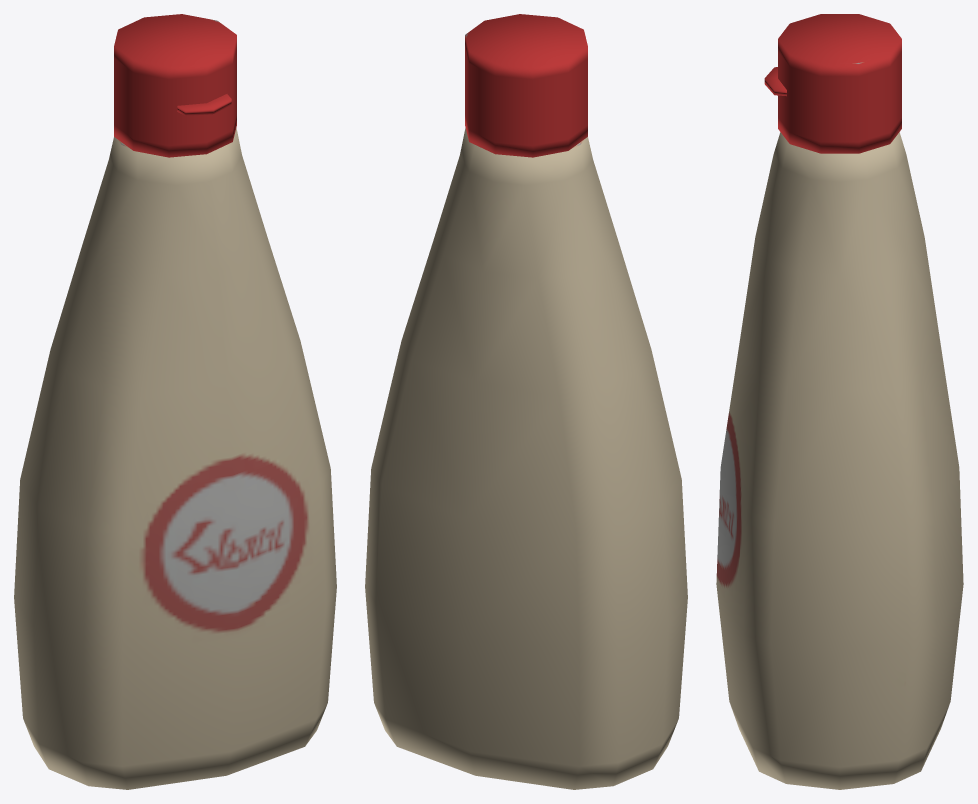
Rendered from pi_mayonnaise01.gltf.
The picture shows the model from 3 angles, left to right: view 1: azimuth 30°, elevation 25°; view 2: azimuth 150°, elevation 25°; view 3: azimuth 270°, elevation 25°; orthographic projection.
Visible parts, largest first — view 1: um_pi_mayonnaise01_model_pi_mayonnaise01_modelShape:pi_mayon; view 2: um_pi_mayonnaise01_model_pi_mayonnaise01_modelShape:pi_mayon; view 3: um_pi_mayonnaise01_model_pi_mayonnaise01_modelShape:pi_mayon.
Part boxes in pixels (x1=…): um_pi_mayonnaise01_model_pi_mayonnaise01_modelShape:pi_mayon: x1=14, y1=14, x2=336, y2=789; um_pi_mayonnaise01_model_pi_mayonnaise01_modelShape:pi_mayon: x1=365, y1=14, x2=687, y2=789; um_pi_mayonnaise01_model_pi_mayonnaise01_modelShape:pi_mayon: x1=716, y1=14, x2=963, y2=789.
Bounding box in the file's own units: 0.092 × 0.2164 × 0.0703.
Materials: 1 (1 with a texture image).
